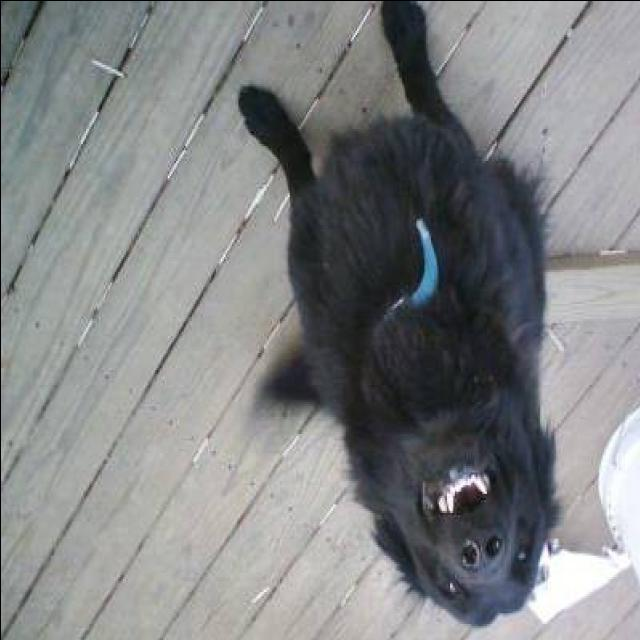dog: (215, 0, 572, 627)
